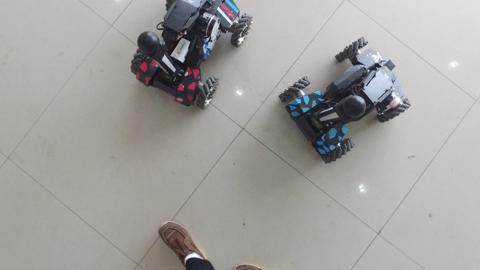chariot: (271, 28, 414, 172), (130, 1, 255, 116)
